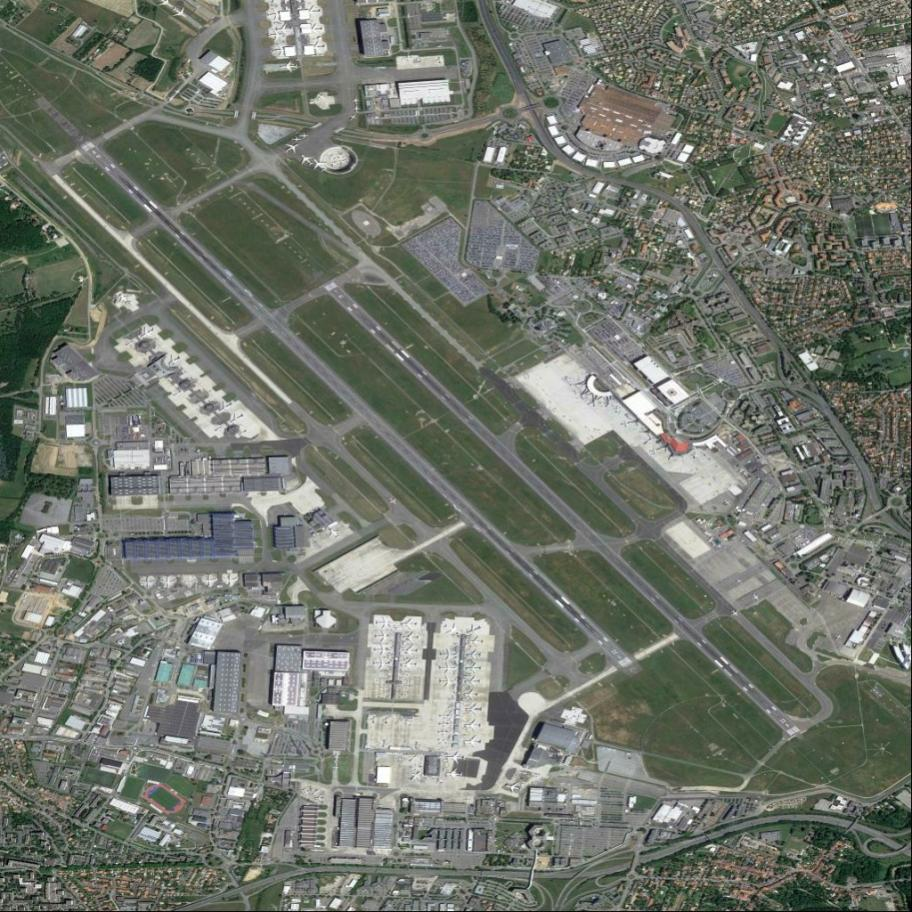plane: (168, 2, 190, 22), (310, 155, 328, 174), (297, 151, 314, 168), (281, 140, 299, 156), (464, 622, 483, 636), (443, 620, 459, 635), (280, 60, 298, 72), (374, 641, 389, 655), (313, 38, 326, 52), (309, 23, 325, 34), (377, 630, 389, 644), (373, 657, 388, 668), (465, 737, 480, 748), (266, 6, 278, 19), (468, 704, 482, 715), (447, 753, 463, 762), (440, 648, 453, 659), (440, 675, 453, 686), (466, 650, 480, 660), (307, 4, 321, 14), (400, 660, 417, 668), (440, 662, 453, 672), (468, 637, 482, 646), (447, 769, 461, 778), (376, 617, 389, 626), (268, 28, 281, 37), (465, 690, 478, 699), (466, 721, 480, 729), (347, 112, 358, 122), (467, 663, 479, 672), (404, 647, 416, 656), (403, 620, 416, 628), (467, 677, 480, 684), (403, 633, 416, 640), (275, 44, 284, 54), (291, 135, 302, 142), (299, 133, 309, 139), (353, 106, 361, 112), (354, 97, 358, 103)
